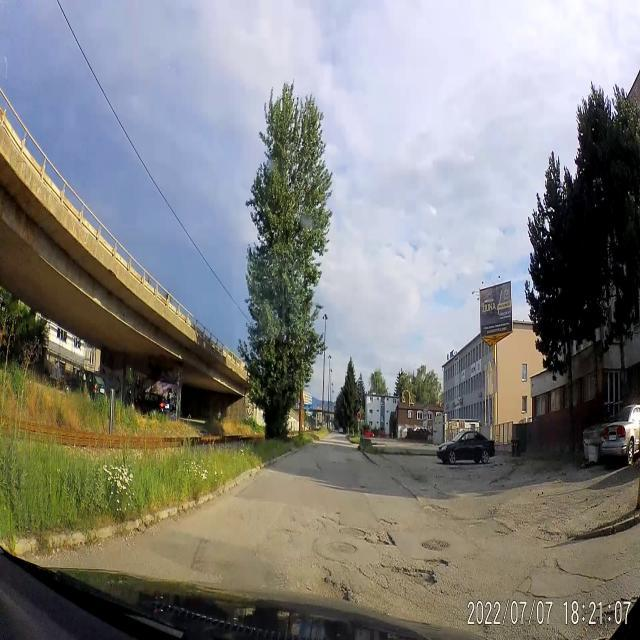Manhole: (421, 532, 451, 558), (326, 540, 359, 558), (337, 524, 368, 540)
Pothole: (385, 556, 437, 596), (322, 570, 356, 606), (370, 530, 400, 553)
